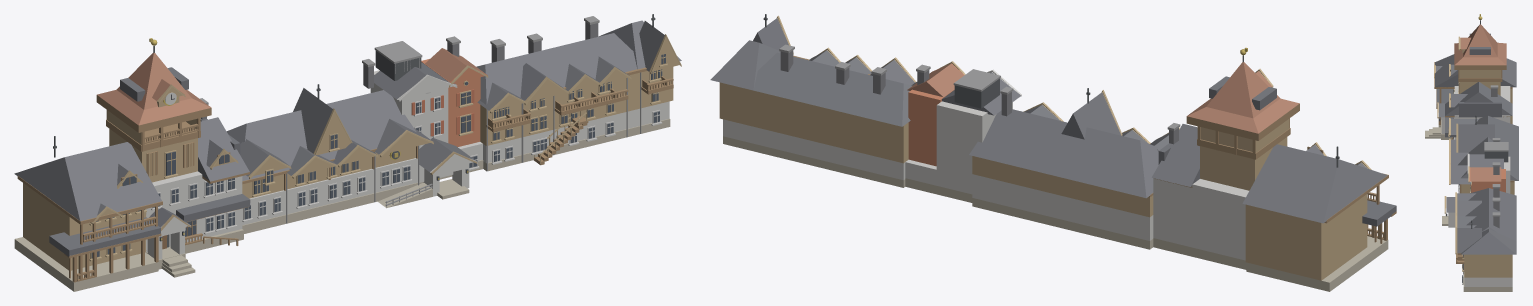
File: building_v3 (1).glb
The picture shows the model from 3 angles, left to right: view 1: azimuth 30°, elevation 25°; view 2: azimuth 150°, elevation 25°; view 3: azimuth 270°, elevation 25°; orthographic projection. The views are drawn at different scales.
Parts seen in each view (by area): view 1: geometry_65, geometry_299, geometry_537, geometry_536, geometry_4, geometry_296, geometry_1, geometry_5, geometry_534, geometry_195, geometry_176, geometry_6 (+29 smaller); view 2: geometry_299, geometry_536, geometry_4, geometry_65, geometry_5, geometry_537, geometry_296, geometry_298, geometry_534, geometry_464, geometry_510, geometry_115 (+21 smaller); view 3: geometry_537, geometry_299, geometry_536, geometry_538, geometry_65, geometry_195, geometry_301, geometry_176, geometry_197, geometry_177, geometry_534, geometry_556 (+29 smaller).
Part boxes in pixels (left/top/right/bottom): geometry_65: left=14, top=142, right=161, bottom=221; geometry_299: left=226, top=90, right=416, bottom=181; geometry_537: left=476, top=33, right=637, bottom=104; geometry_536: left=480, top=67, right=673, bottom=145; geometry_4: left=23, top=183, right=146, bottom=270; geometry_296: left=242, top=158, right=417, bottom=225; geometry_1: left=14, top=237, right=158, bottom=291; geometry_5: left=146, top=171, right=242, bottom=252; geometry_534: left=483, top=101, right=669, bottom=163; geometry_195: left=198, top=117, right=249, bottom=181; geometry_176: left=97, top=89, right=211, bottom=125; geometry_6: left=49, top=217, right=160, bottom=256; geometry_299: left=969, top=109, right=1158, bottom=198; geometry_536: left=719, top=82, right=908, bottom=163; geometry_4: left=1245, top=194, right=1367, bottom=280; geometry_65: left=1242, top=144, right=1387, bottom=223; geometry_5: left=1153, top=178, right=1248, bottom=260; geometry_537: left=753, top=52, right=912, bottom=126; geometry_296: left=972, top=174, right=1153, bottom=240; geometry_298: left=972, top=156, right=1153, bottom=217; geometry_534: left=723, top=119, right=905, bottom=180; geometry_464: left=936, top=101, right=1012, bottom=178; geometry_510: left=908, top=89, right=954, bottom=166; geometry_115: left=1200, top=137, right=1287, bottom=190; geometry_537: left=1465, top=188, right=1516, bottom=240; geometry_299: left=1458, top=115, right=1518, bottom=180; geometry_536: left=1464, top=254, right=1512, bottom=277; geometry_538: left=1461, top=229, right=1516, bottom=254; geometry_65: left=1435, top=54, right=1516, bottom=87; geometry_195: left=1445, top=82, right=1512, bottom=115; geometry_301: left=1458, top=124, right=1494, bottom=152; geometry_176: left=1454, top=42, right=1506, bottom=65; geometry_197: left=1459, top=102, right=1501, bottom=117; geometry_177: left=1463, top=24, right=1497, bottom=57; geometry_534: left=1464, top=277, right=1512, bottom=286; geometry_556: left=1457, top=228, right=1481, bottom=253.
Bounding box in the file's own units: 21.14 × 6.58 × 4.39.
